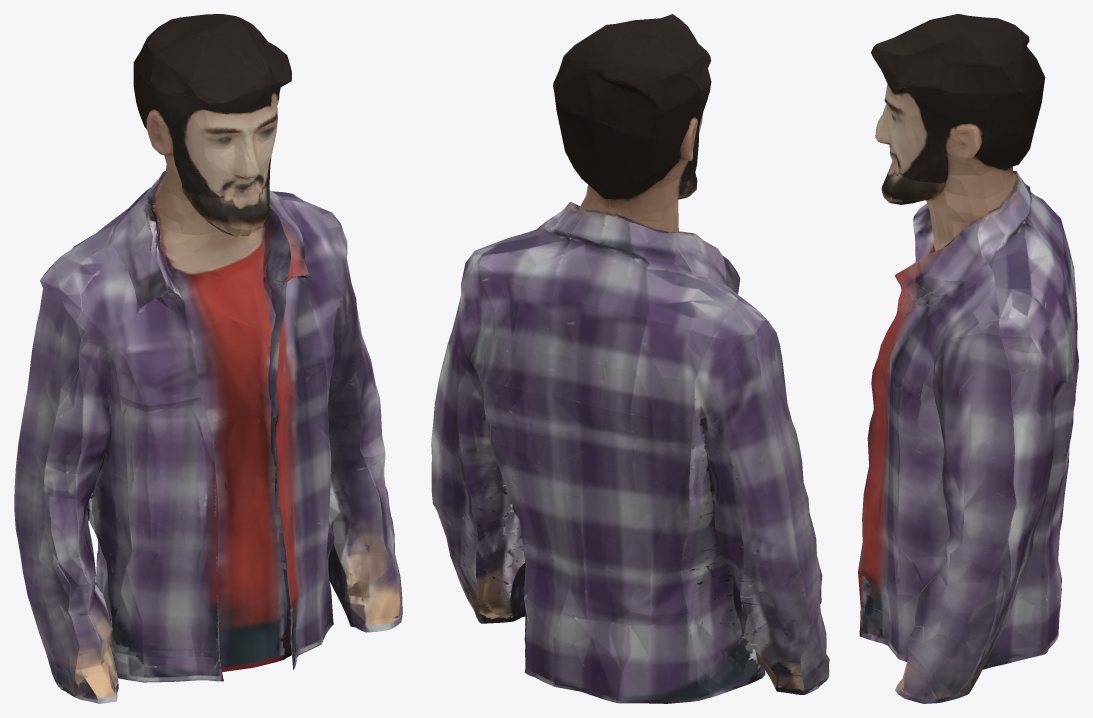
File: step_12.glb
The picture shows the model from 3 angles, left to right: view 1: azimuth 30°, elevation 25°; view 2: azimuth 150°, elevation 25°; view 3: azimuth 270°, elevation 25°; orthographic projection. The views are drawn at different scales.
Visible parts, largest first — view 1: geometry_0; view 2: geometry_0; view 3: geometry_0.
Part boxes in pixels (box(x1,y1,x2,y2)): geometry_0: box(14, 14, 402, 703); geometry_0: box(431, 14, 829, 703); geometry_0: box(858, 14, 1078, 703).
Size of the model in its own units: 0.5061 by 0.8284 by 0.2754.
Materials: 1 (1 with a texture image).
